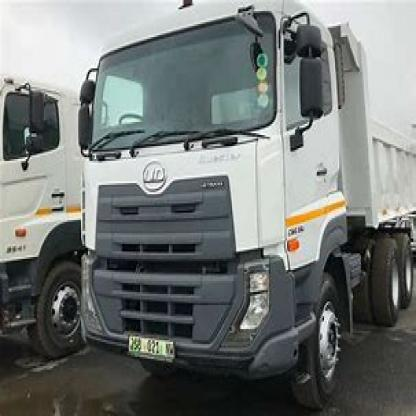dump_truck: (70, 6, 415, 406)
